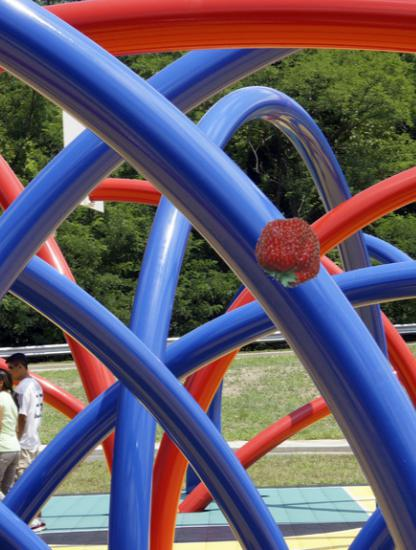Strawberry: (253, 216, 326, 289)
